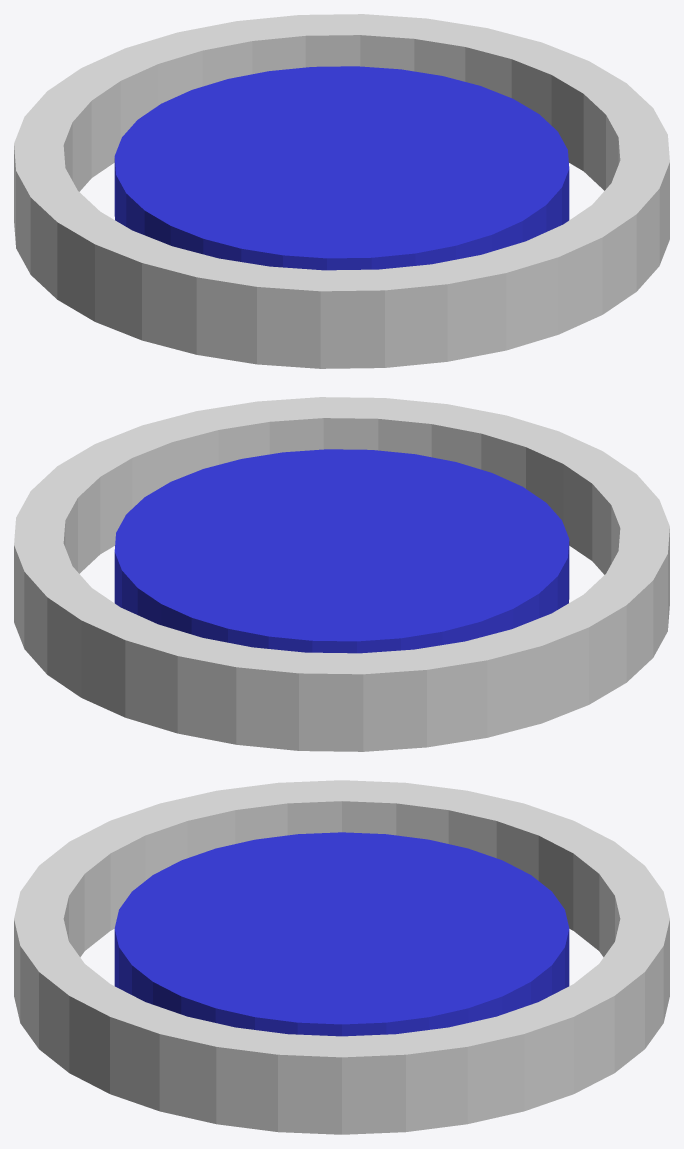
File: Player.gltf
3 views of the same model, one above another, from view 1: azimuth 30°, elevation 25°; view 2: azimuth 150°, elevation 25°; view 3: azimuth 270°, elevation 25° (orthographic).
Parts seen in each view (by area): view 1: Circle; view 2: Circle; view 3: Circle.
Boxes of the visible parts, x1,y1,x2,y2 form: Circle: [14, 14, 669, 368]; Circle: [14, 397, 669, 751]; Circle: [14, 780, 669, 1134].
Bounding box in the file's own units: 3.43 × 0.4462 × 3.43.
